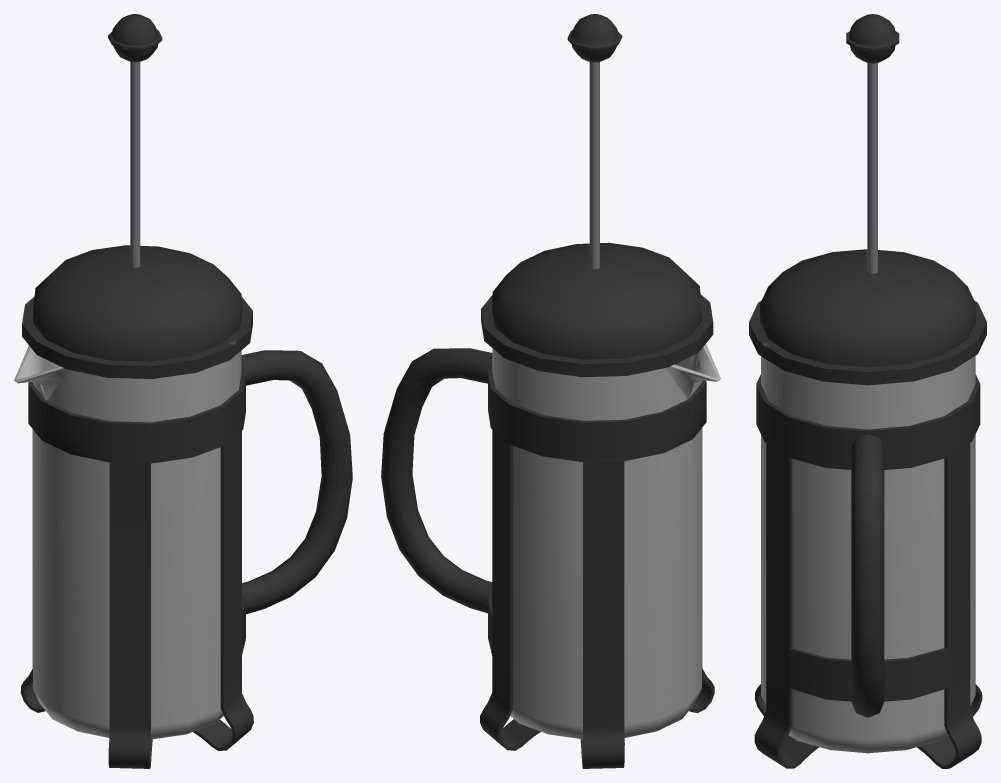
File: FrenchPress_01.fbx
The picture shows the model from 3 angles, left to right: view 1: azimuth 30°, elevation 25°; view 2: azimuth 150°, elevation 25°; view 3: azimuth 270°, elevation 25°; orthographic projection. The views are drawn at different scales.
Parts seen in each view (by area): view 1: FrenchPress_01; view 2: FrenchPress_01; view 3: FrenchPress_01.
Boxes of the visible parts, <box> form: FrenchPress_01: <box>14,14,352,768</box>; FrenchPress_01: <box>381,14,720,768</box>; FrenchPress_01: <box>749,14,986,768</box>.
Bounding box in the file's own units: 24.66 × 49.67 × 14.85.
